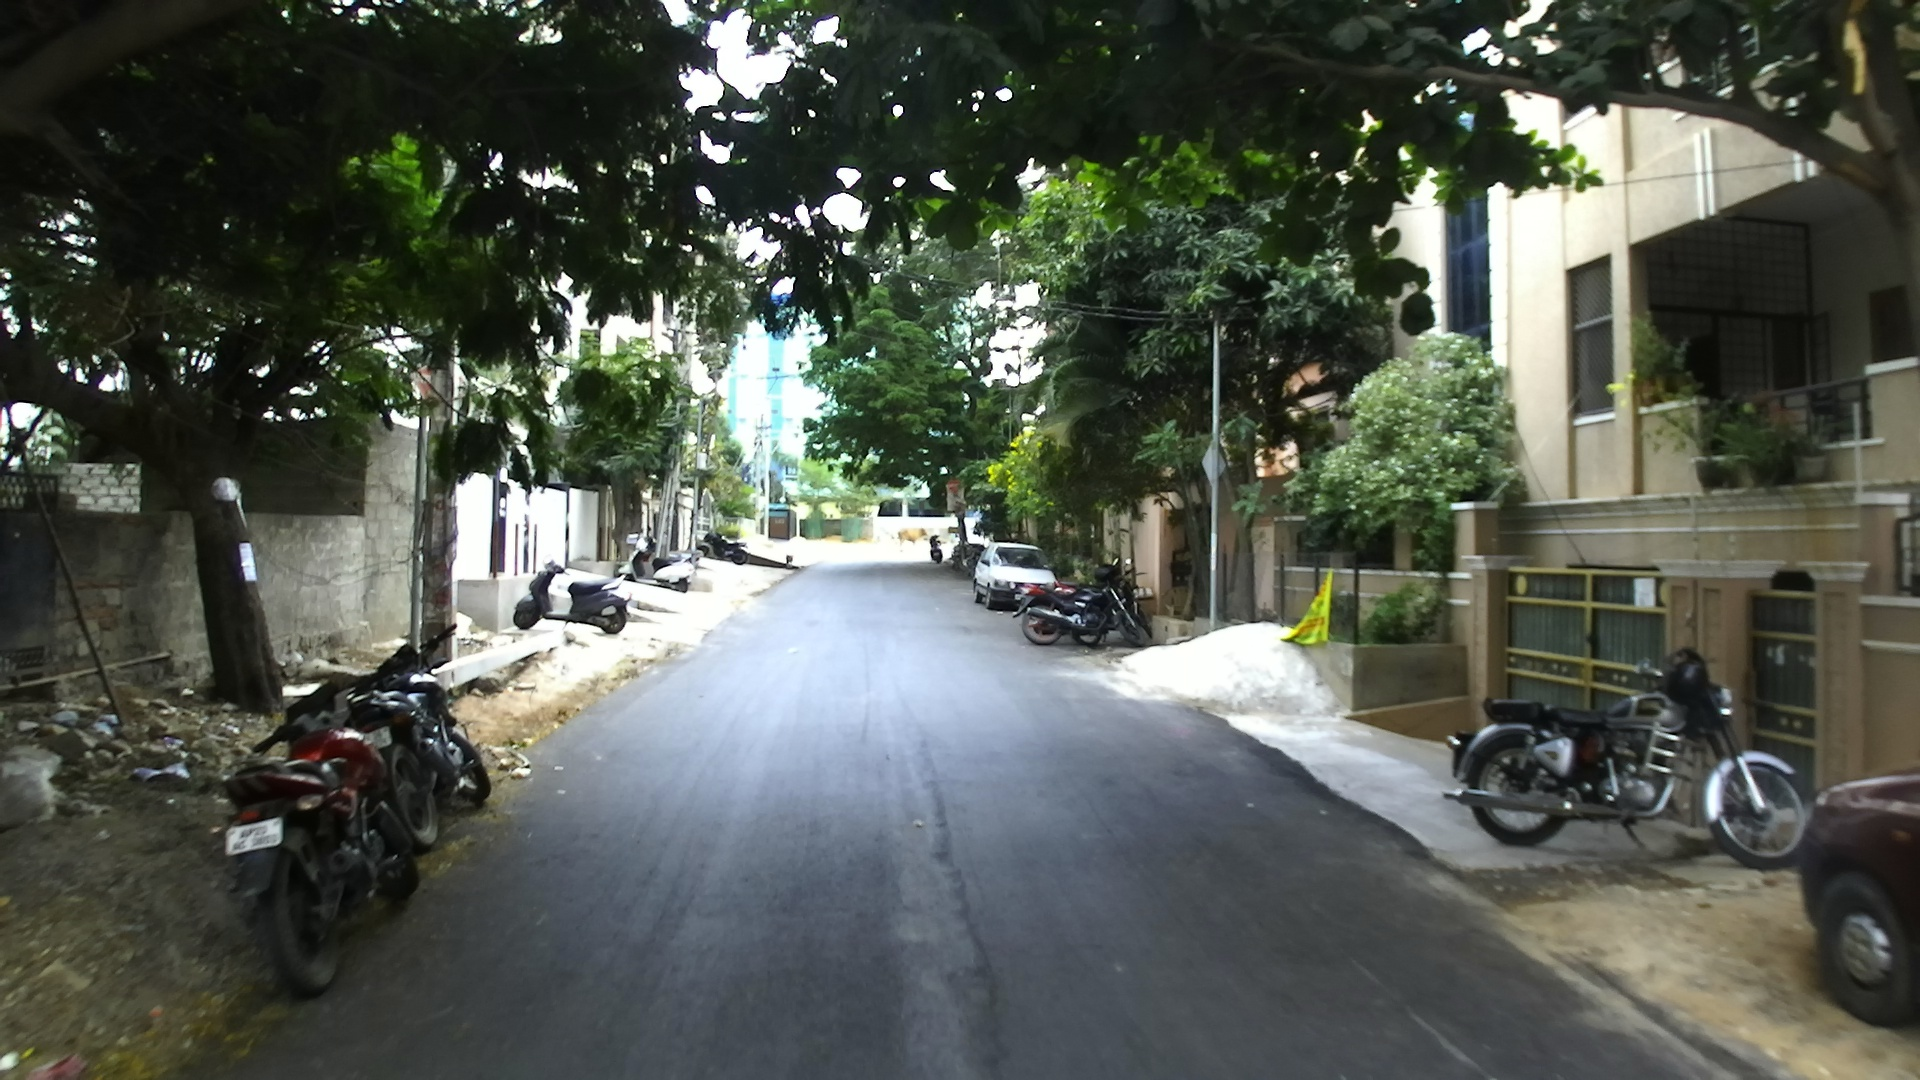vehicle: (1448, 642, 1812, 865), (220, 709, 402, 1001), (1792, 765, 1919, 1029), (363, 630, 495, 818), (356, 665, 491, 843), (1021, 582, 1153, 649), (972, 543, 1059, 611)
